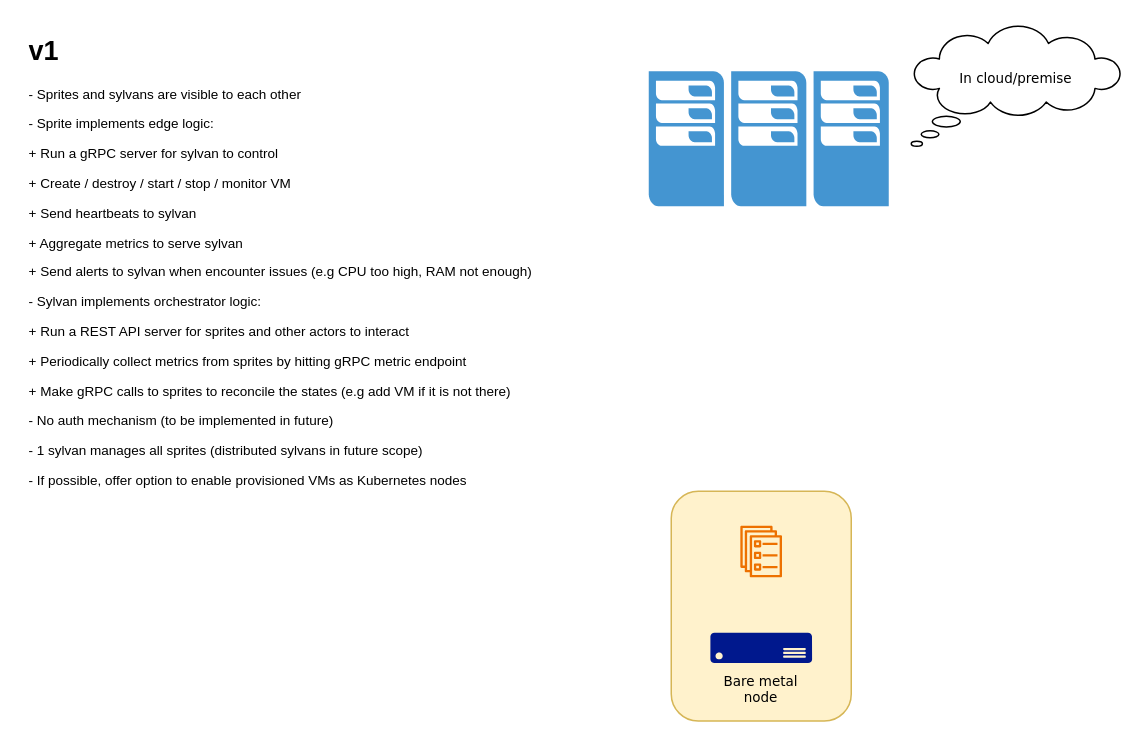
Some shapes in this 1148 by 749 pixel diagram are drawn without their labels. Each missing label, with the box of its shape:
Sprite(s): (740, 525, 781, 577)
Sylvans: (648, 70, 888, 206)
